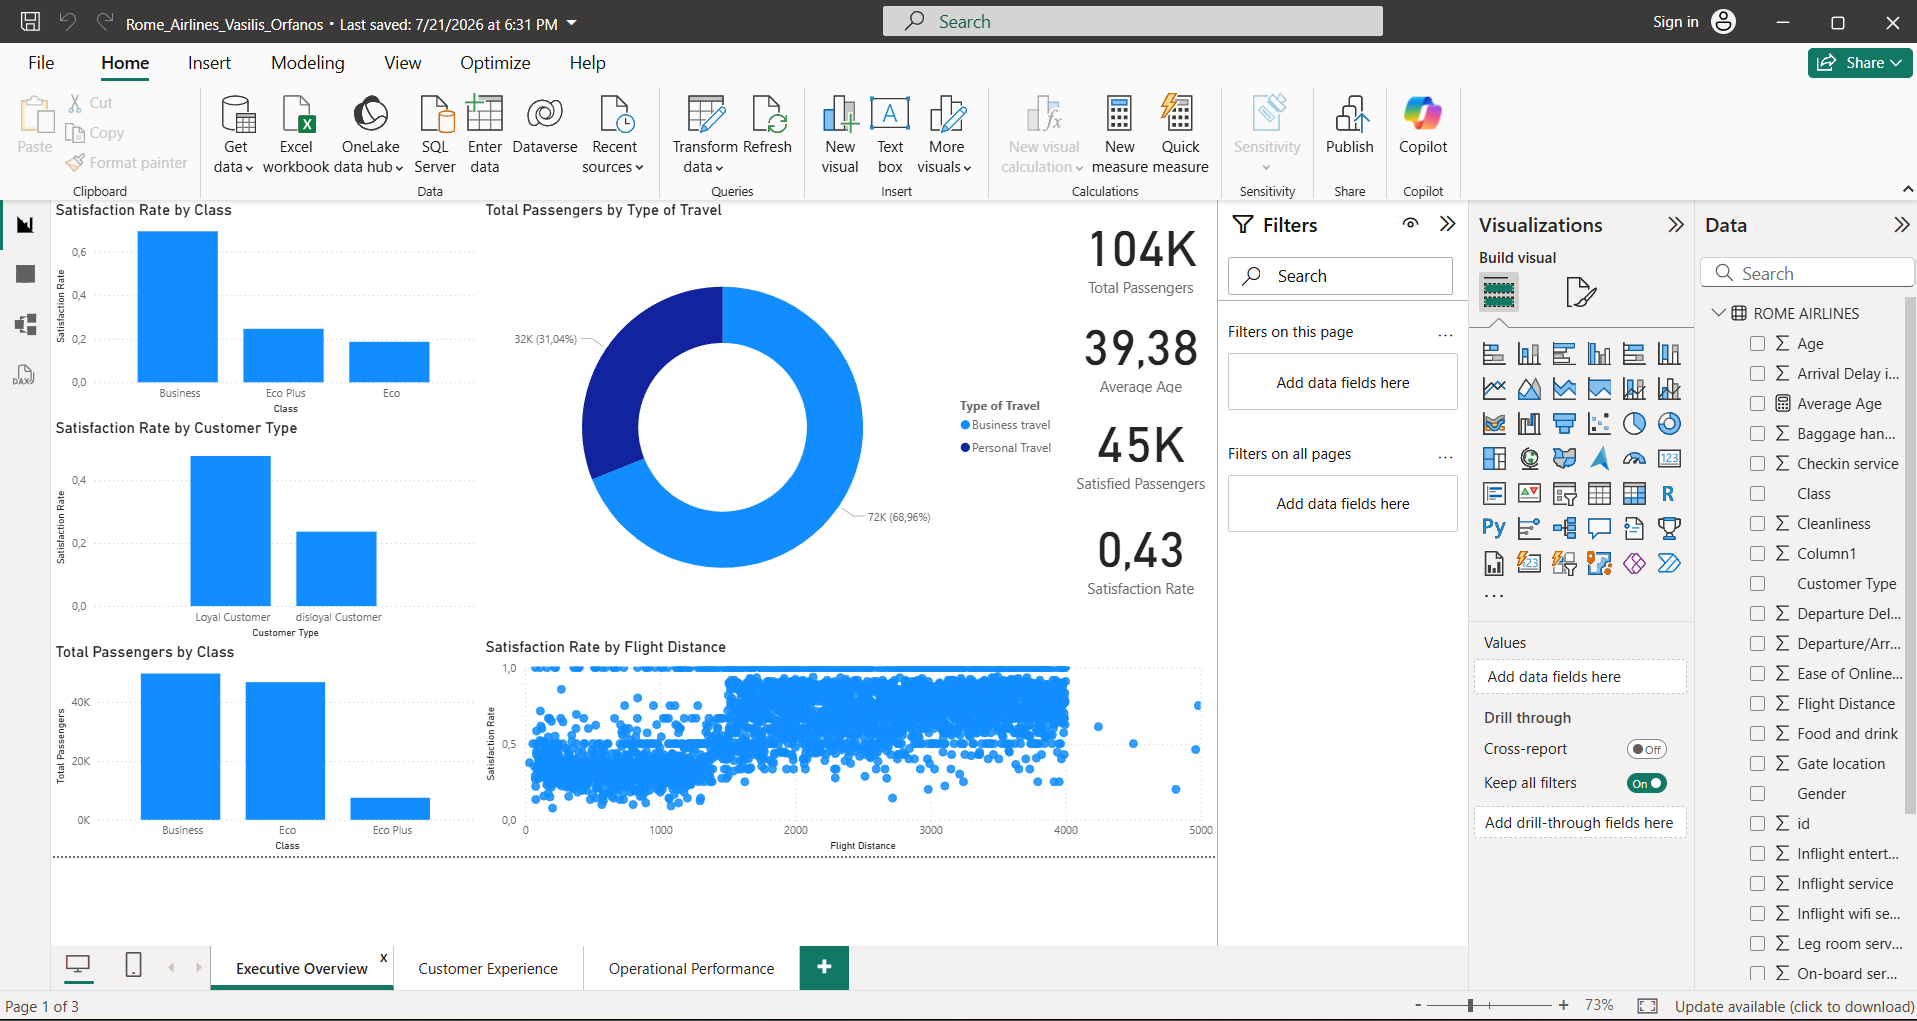

The page's visual inventory and layout, read from the dashboard file:
{"tool":"powerbi","page":{"name":"Executive Overview","canvas":[1280,720],"ordinal":0},"visuals":[{"type":"card","fields":{"Values":["ROME AIRLINES.Total Passengers"]},"box":[1112.9,0,167.4,115.3],"z":0},{"type":"card","fields":{"Values":["ROME AIRLINES.Average Age"]},"box":[1112.9,115.3,167.4,101.5],"z":1000},{"type":"card","fields":{"Values":["ROME AIRLINES.Satisfied Passengers"]},"box":[1112.9,216.8,167.4,111.1],"z":2000},{"type":"card","fields":{"Values":["ROME AIRLINES.Satisfaction Rate"]},"box":[1112.9,328,167.4,119.4],"z":3000},{"type":"clusteredColumnChart","fields":{"Category":["ROME AIRLINES.Class"],"Y":["ROME AIRLINES.Total Passengers"]},"box":[0,485.8,472,234.6],"z":4000},{"type":"clusteredColumnChart","fields":{"Category":["ROME AIRLINES.Class"],"Y":["ROME AIRLINES.Satisfaction Rate"]},"box":[0,0,472,240.1],"z":5000},{"type":"clusteredColumnChart","fields":{"Category":["ROME AIRLINES.Customer Type"],"Y":["ROME AIRLINES.Satisfaction Rate"]},"box":[0,240.1,472,245.6],"z":6000},{"type":"scatterChart","fields":{"X":["ROME AIRLINES.Flight Distance"],"Y":["ROME AIRLINES.Satisfaction Rate"]},"box":[472,480.3,808.2,240.1],"z":7000},{"type":"donutChart","fields":{"Category":["ROME AIRLINES.Type of Travel"],"Y":["ROME AIRLINES.Total Passengers"]},"box":[472,0,640.8,480.3],"z":8000}]}

Visuals, with their boxes on the page's 1280x720 design canvas (x1, y1, x2, y2). These are canvas units, not pixel positions in the 1917x1021 screenshot, which may show the page scaled, cropped or inside an application window:
card - ROME AIRLINES.Total Passengers: x1=1113, y1=0, x2=1280, y2=115
card - ROME AIRLINES.Average Age: x1=1113, y1=115, x2=1280, y2=217
card - ROME AIRLINES.Satisfied Passengers: x1=1113, y1=217, x2=1280, y2=328
card - ROME AIRLINES.Satisfaction Rate: x1=1113, y1=328, x2=1280, y2=447
clusteredColumnChart - ROME AIRLINES.Class x ROME AIRLINES.Total Passengers: x1=0, y1=486, x2=472, y2=720
clusteredColumnChart - ROME AIRLINES.Class x ROME AIRLINES.Satisfaction Rate: x1=0, y1=0, x2=472, y2=240
clusteredColumnChart - ROME AIRLINES.Customer Type x ROME AIRLINES.Satisfaction Rate: x1=0, y1=240, x2=472, y2=486
scatterChart - ROME AIRLINES.Flight Distance x ROME AIRLINES.Satisfaction Rate: x1=472, y1=480, x2=1280, y2=720
donutChart - ROME AIRLINES.Type of Travel x ROME AIRLINES.Total Passengers: x1=472, y1=0, x2=1113, y2=480
